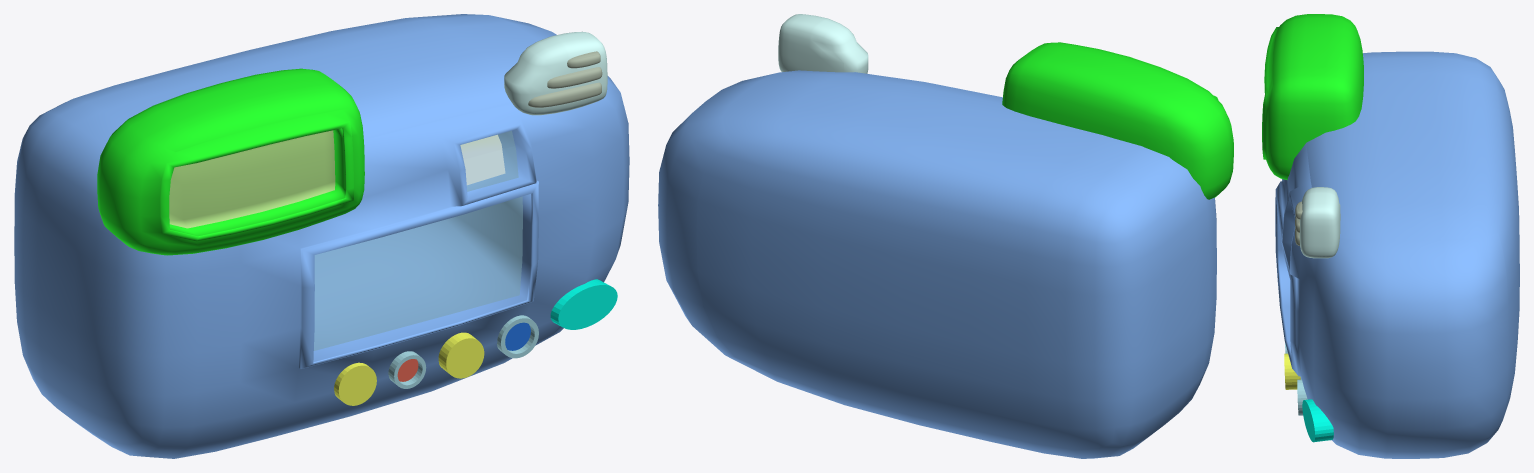
The model's file is oven.glb.
3 renders of one model, left to right at view 1: azimuth 30°, elevation 25°; view 2: azimuth 150°, elevation 25°; view 3: azimuth 270°, elevation 25°, orthographic. The views are drawn at different scales.
Parts seen in each view (by area): view 1: horno; view 2: horno; view 3: horno.
Part boxes in pixels (box(x1,y1,x2,y2)): horno: box(14, 14, 629, 458); horno: box(658, 14, 1233, 458); horno: box(1262, 14, 1519, 458).
Size of what is drawn, in the model's own units: 5.55 by 3.53 by 2.71.
